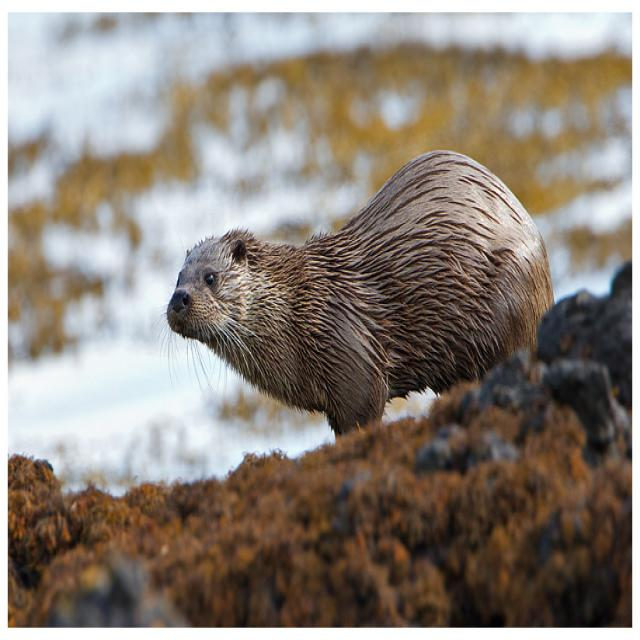otter: (168, 149, 553, 434)
